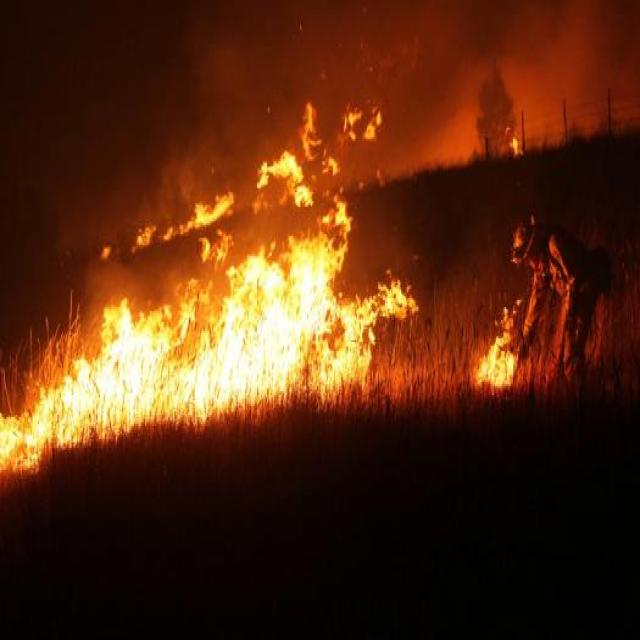fire: (215, 265, 408, 393), (62, 307, 204, 421), (474, 318, 519, 387)
